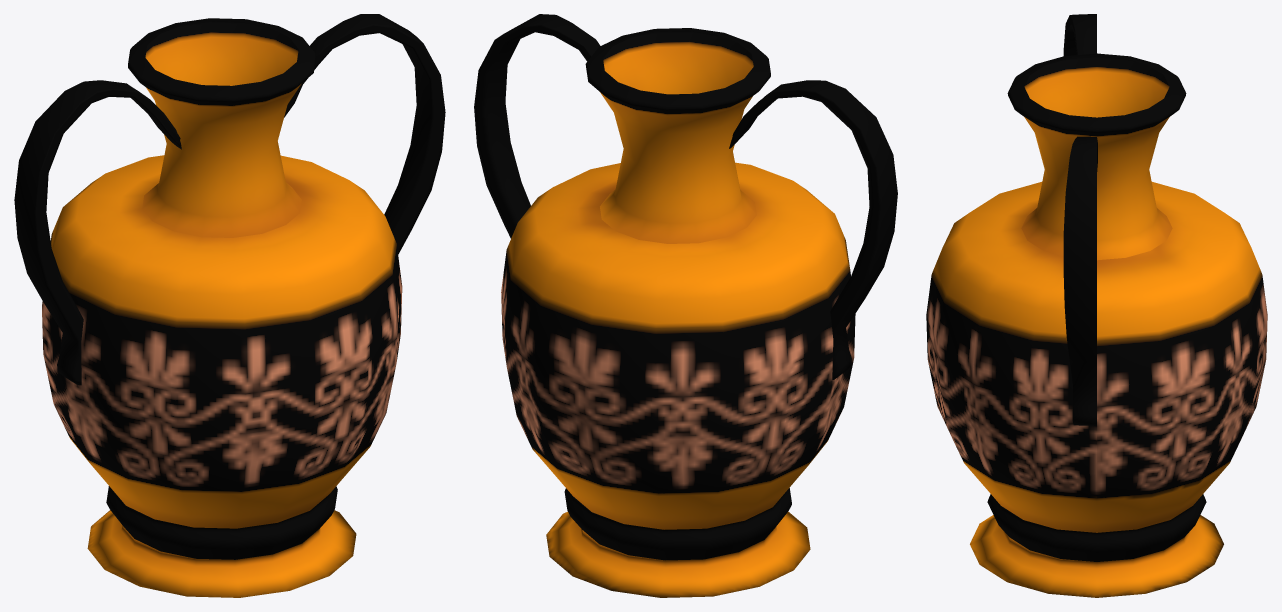
Rendered from vase_fixed.fbx.
The picture shows the model from 3 angles, left to right: view 1: azimuth 30°, elevation 25°; view 2: azimuth 150°, elevation 25°; view 3: azimuth 270°, elevation 25°; orthographic projection. The views are drawn at different scales.
Visible parts, largest first — view 1: vase_fixed; view 2: vase_fixed; view 3: vase_fixed.
Part boxes in pixels (<box>): vase_fixed: <box>14,14,445,597</box>; vase_fixed: <box>474,14,897,597</box>; vase_fixed: <box>926,14,1267,597</box>.
Size of the model in its own units: 87.05 by 101 by 66.06.
